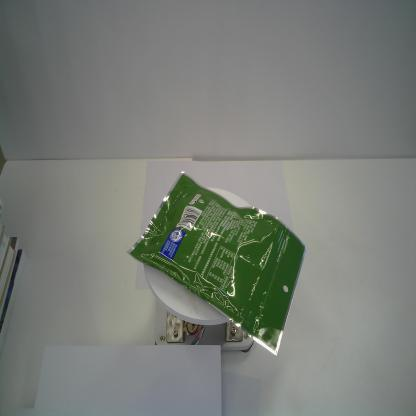Dried Fruit: (124, 168, 307, 357)
